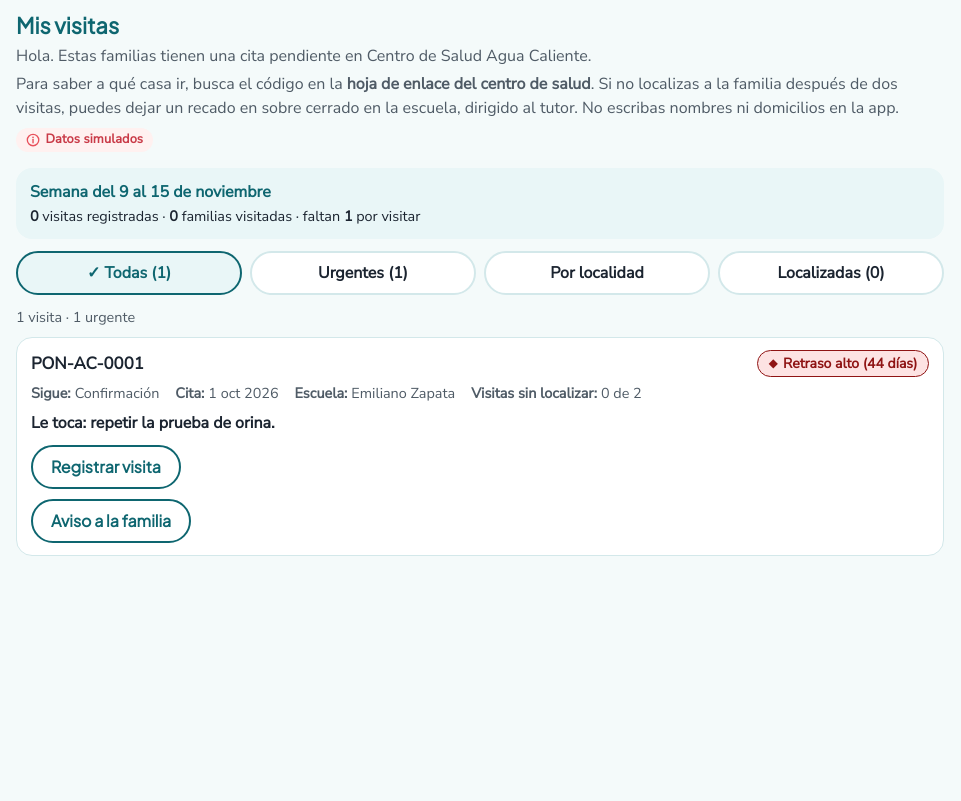
Registrar visita (HU05) › pide elegir si se localizó a la familia
What coordinates should you click on to do the following:
click the button "Registrar visita"
I would click on:
 (106, 467)
Its box is left=31, top=445, right=181, bottom=489.
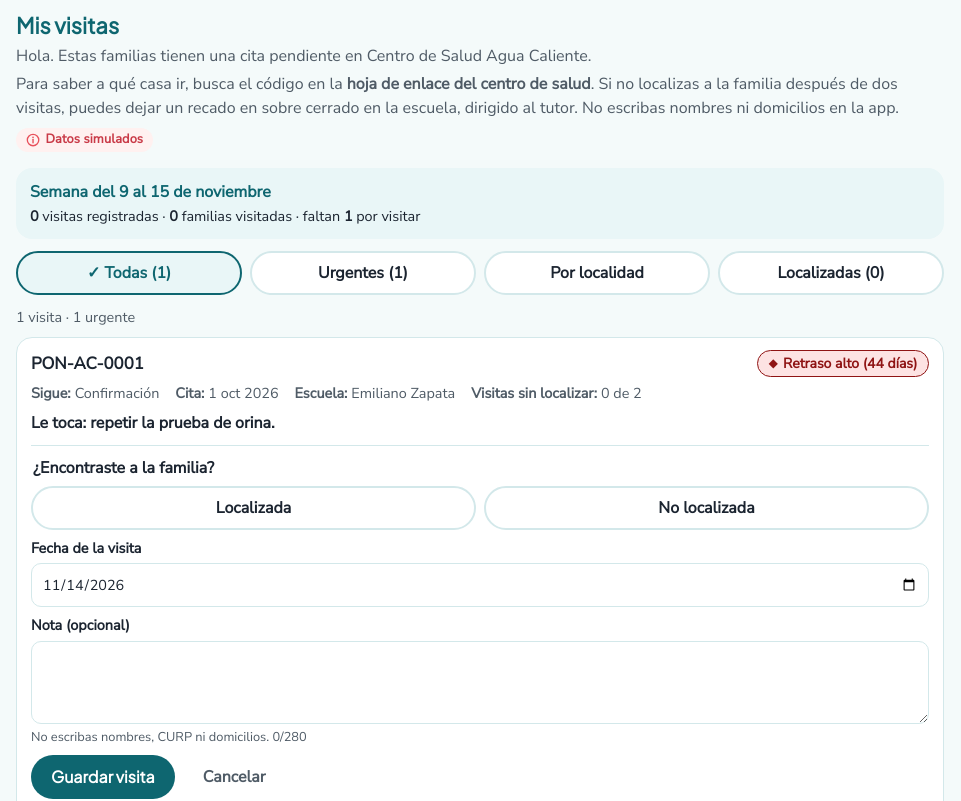
What coordinates should you click on to do the following:
click the button "Guardar visita"
I would click on:
 (103, 777)
Its box is left=31, top=755, right=175, bottom=799.
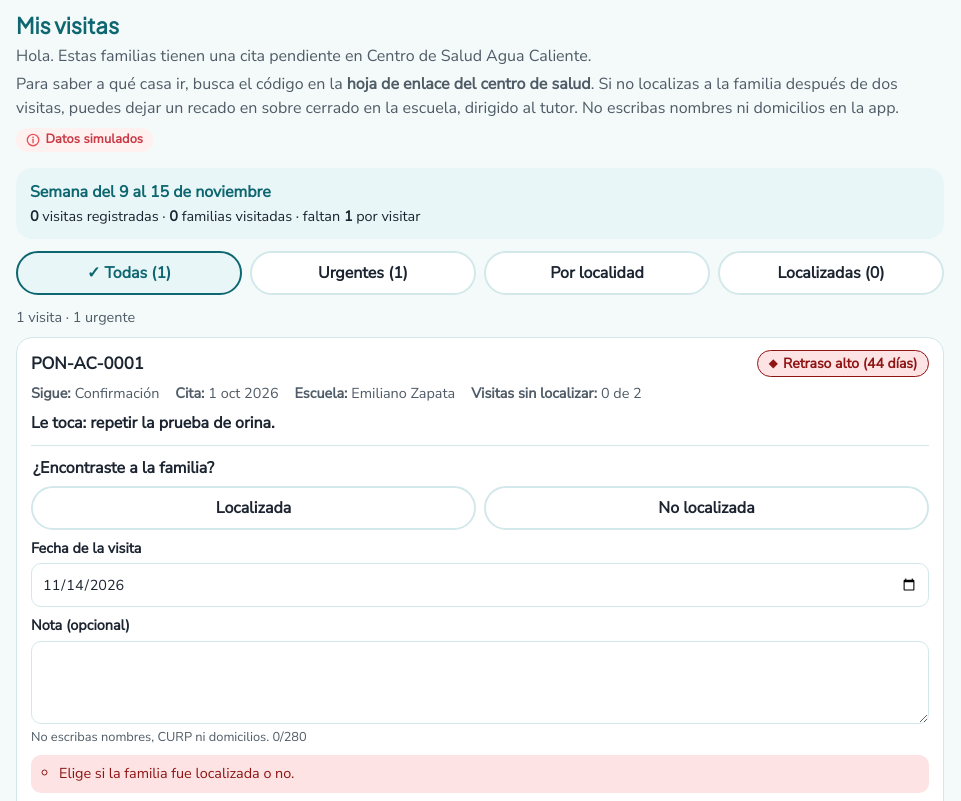
Expected: the message reads "Elige si la familia fue localizada o no.", left=59, top=763, right=294, bottom=783
